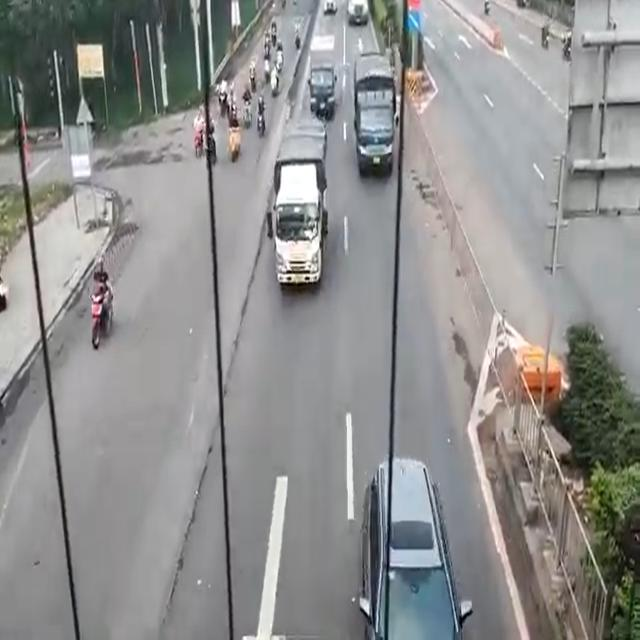car: (362, 467, 458, 640)
motor: (90, 293, 112, 356), (227, 123, 241, 161), (216, 91, 227, 118), (194, 125, 203, 157), (227, 96, 236, 126), (269, 70, 278, 100), (244, 97, 252, 128), (256, 110, 265, 134)
truck: (274, 125, 322, 289), (354, 52, 392, 177), (307, 28, 339, 122)
